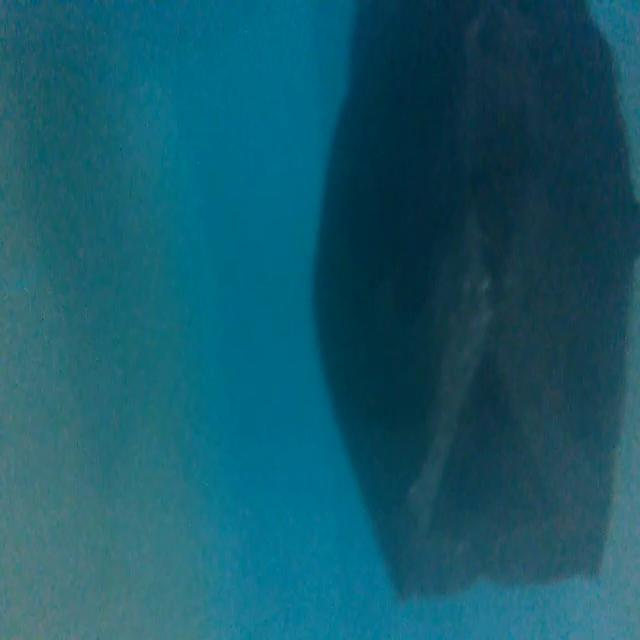plastic bags: (317, 0, 640, 607)
